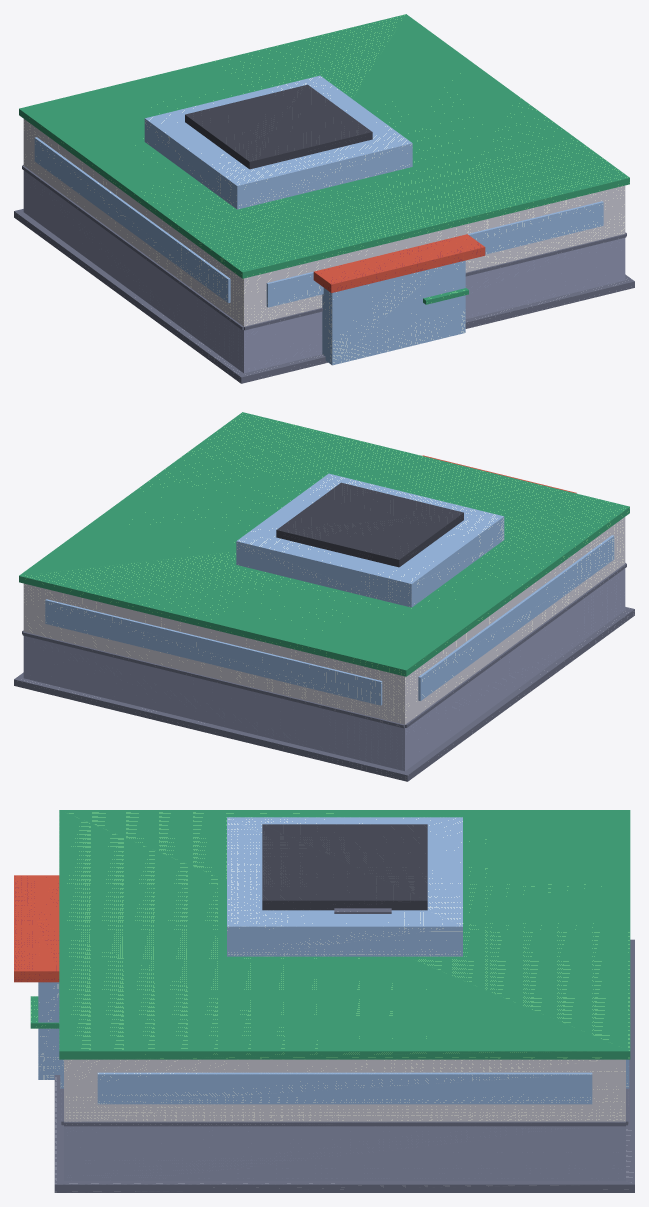
Rendered from mall-2x2-l1.glb.
The picture shows the model from 3 angles, top to bottom: view 1: azimuth 30°, elevation 25°; view 2: azimuth 150°, elevation 25°; view 3: azimuth 270°, elevation 25°; orthographic projection. The views are drawn at different scales.
Parts seen in each view (by area): view 1: mall-2x2-l1; view 2: mall-2x2-l1; view 3: mall-2x2-l1.
Boxes of the visible parts, x1=… form: mall-2x2-l1: x1=14, y1=14, x2=634, y2=383; mall-2x2-l1: x1=14, y1=412, x2=634, y2=781; mall-2x2-l1: x1=14, y1=810, x2=634, y2=1192.
Bounding box in the file's own units: 3.84 × 1.31 × 4.11.
1 material, 1 textured.
